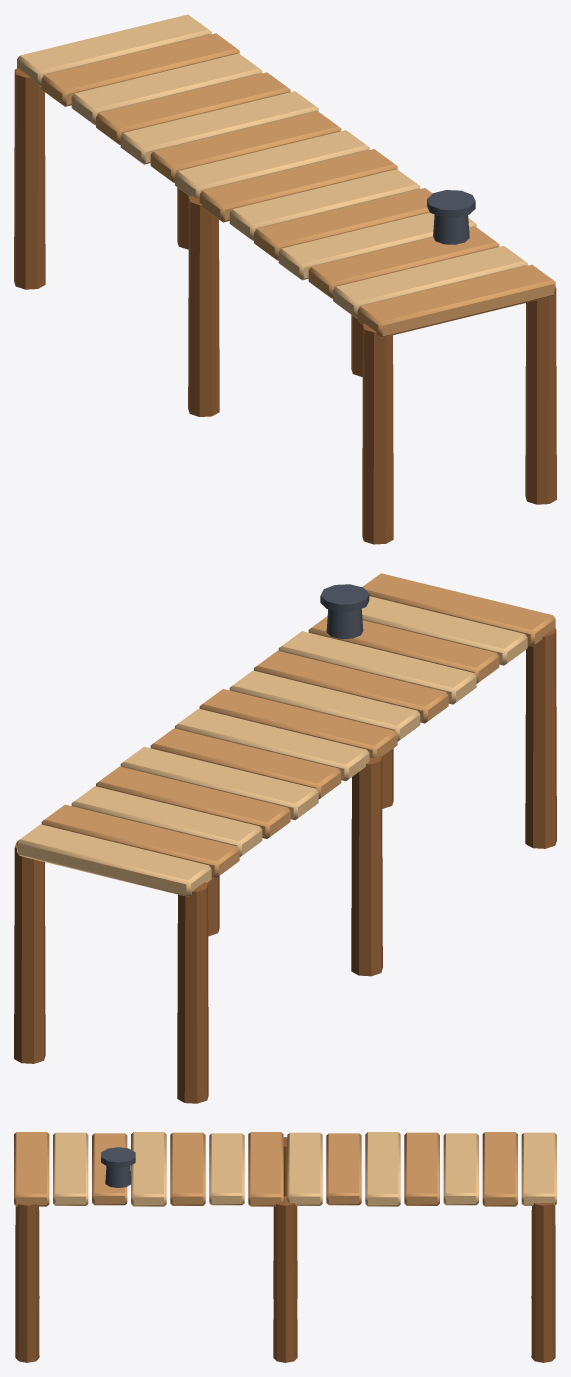
File: home_pier.fbx
3 renders of one model, top to bottom at view 1: azimuth 30°, elevation 25°; view 2: azimuth 150°, elevation 25°; view 3: azimuth 270°, elevation 25°, orthographic. The views are drawn at different scales.
Visible parts, largest first — view 1: home_pier; view 2: home_pier; view 3: home_pier.
Boxes of the visible parts, left/top/right/bottom form: home_pier: left=14, top=14, right=556, bottom=544; home_pier: left=14, top=573, right=556, bottom=1103; home_pier: left=14, top=1132, right=556, bottom=1362.
Bounding box in the file's own units: 0.54 × 0.7 × 1.79.
